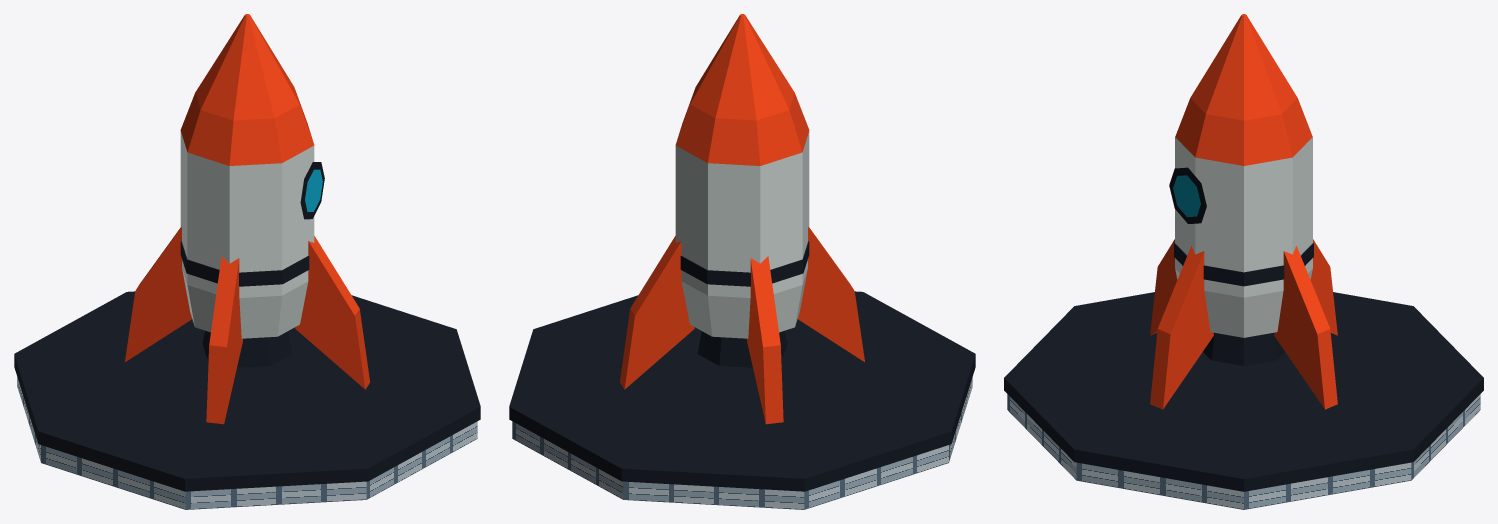
Rendered from demo.obj.
The picture shows the model from 3 angles, left to right: view 1: azimuth 30°, elevation 25°; view 2: azimuth 150°, elevation 25°; view 3: azimuth 270°, elevation 25°; orthographic projection.
Parts seen in each view (by area): view 1: PadLip, MainHull, LaunchPad, NoseCone, Shoulder, Stabilizer0, Stabilizer2, Stabilizer1, LowerHull, HullBand, EngineBell, WindowGlass; view 2: PadLip, MainHull, LaunchPad, NoseCone, Shoulder, Stabilizer3, Stabilizer1, Stabilizer2, LowerHull, HullBand, EngineBell; view 3: PadLip, MainHull, LaunchPad, NoseCone, Shoulder, Stabilizer0, Stabilizer3, LowerHull, EngineBell, HullBand, Stabilizer1, Stabilizer2 (+2 smaller).
Part boxes in pixels (x1=…): PadLip: x1=14, y1=291, x2=480, y2=491; MainHull: x1=180, y1=131, x2=314, y2=297; LaunchPad: x1=17, y1=377, x2=477, y2=509; NoseCone: x1=195, y1=14, x2=299, y2=120; Shoulder: x1=180, y1=90, x2=314, y2=165; Stabilizer0: x1=295, y1=236, x2=369, y2=389; Stabilizer2: x1=125, y1=227, x2=192, y2=361; Stabilizer1: x1=206, y1=256, x2=242, y2=424; LowerHull: x1=182, y1=268, x2=308, y2=338; HullBand: x1=180, y1=241, x2=309, y2=286; EngineBell: x1=202, y1=330, x2=292, y2=367; WindowGlass: x1=305, y1=169, x2=322, y2=211; PadLip: x1=509, y1=291, x2=975, y2=491; MainHull: x1=675, y1=131, x2=809, y2=297; LaunchPad: x1=512, y1=377, x2=972, y2=509; NoseCone: x1=690, y1=14, x2=794, y2=120; Shoulder: x1=675, y1=90, x2=809, y2=165; Stabilizer3: x1=620, y1=236, x2=694, y2=389; Stabilizer1: x1=797, y1=227, x2=864, y2=361; Stabilizer2: x1=747, y1=256, x2=783, y2=424; LowerHull: x1=681, y1=268, x2=807, y2=338; HullBand: x1=680, y1=241, x2=809, y2=286; EngineBell: x1=697, y1=330, x2=787, y2=367; PadLip: x1=1004, y1=292, x2=1483, y2=491; MainHull: x1=1175, y1=137, x2=1312, y2=297; LaunchPad: x1=1007, y1=394, x2=1480, y2=509; NoseCone: x1=1190, y1=14, x2=1297, y2=120; Shoulder: x1=1175, y1=98, x2=1312, y2=165; Stabilizer0: x1=1150, y1=245, x2=1213, y2=409; Stabilizer3: x1=1274, y1=245, x2=1337, y2=409; LowerHull: x1=1175, y1=269, x2=1312, y2=337; EngineBell: x1=1203, y1=332, x2=1284, y2=365; HullBand: x1=1174, y1=243, x2=1313, y2=286; Stabilizer1: x1=1150, y1=239, x2=1177, y2=335; Stabilizer2: x1=1310, y1=239, x2=1337, y2=335.
Bounding box in the file's own units: 4.46 × 4.05 × 4.46.
5 materials, 1 textured.
